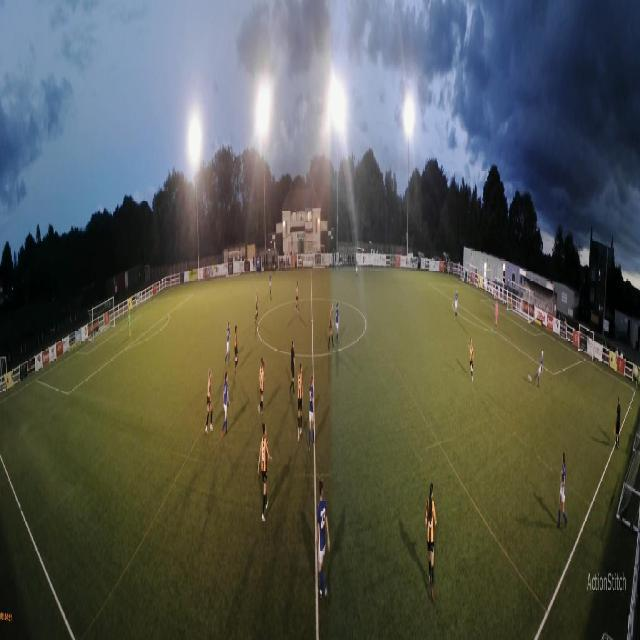ball: (528, 375, 532, 383)
player: (315, 478, 331, 603), (257, 423, 273, 523), (425, 481, 437, 602), (557, 452, 568, 530), (308, 372, 316, 452), (221, 371, 230, 439), (205, 368, 214, 434), (297, 363, 303, 442), (258, 357, 265, 415), (289, 339, 296, 396), (535, 348, 544, 389), (225, 321, 232, 369), (328, 302, 334, 350), (469, 337, 475, 383), (335, 301, 341, 345), (234, 326, 239, 374), (453, 287, 459, 322), (493, 300, 499, 328), (255, 289, 259, 323), (295, 280, 299, 314), (128, 310, 132, 337), (269, 272, 273, 297), (356, 259, 358, 281)
